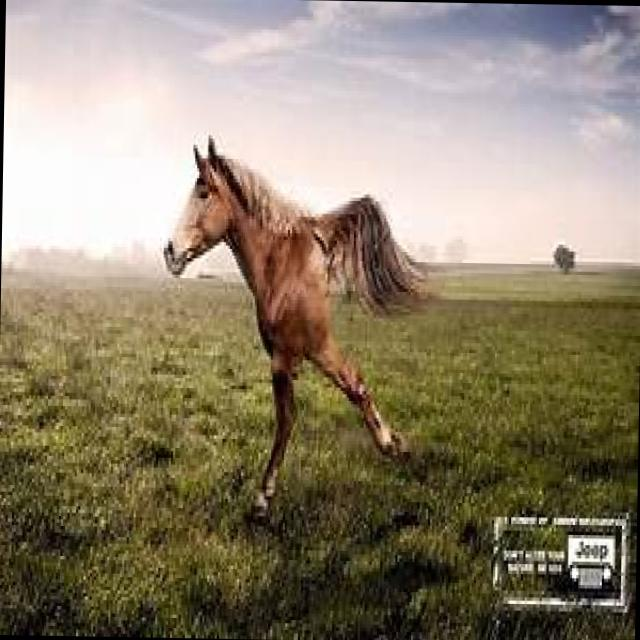horse: (157, 130, 445, 526)
